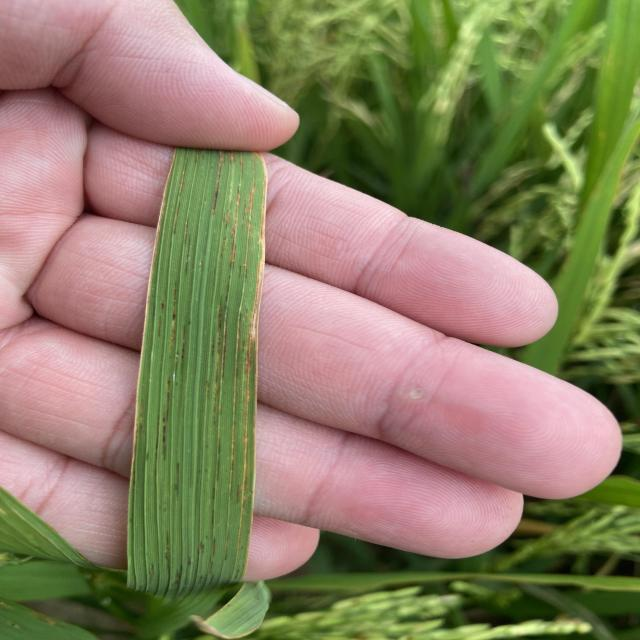Dom soc vi khuan: (212, 302, 223, 418), (210, 150, 222, 215), (230, 191, 239, 269), (169, 284, 177, 360), (220, 310, 227, 382), (185, 235, 192, 278), (180, 324, 186, 369), (165, 377, 171, 421), (161, 418, 166, 461), (225, 274, 232, 302), (220, 237, 226, 258), (184, 217, 189, 241), (225, 212, 230, 227), (217, 438, 221, 456), (158, 314, 161, 338)
